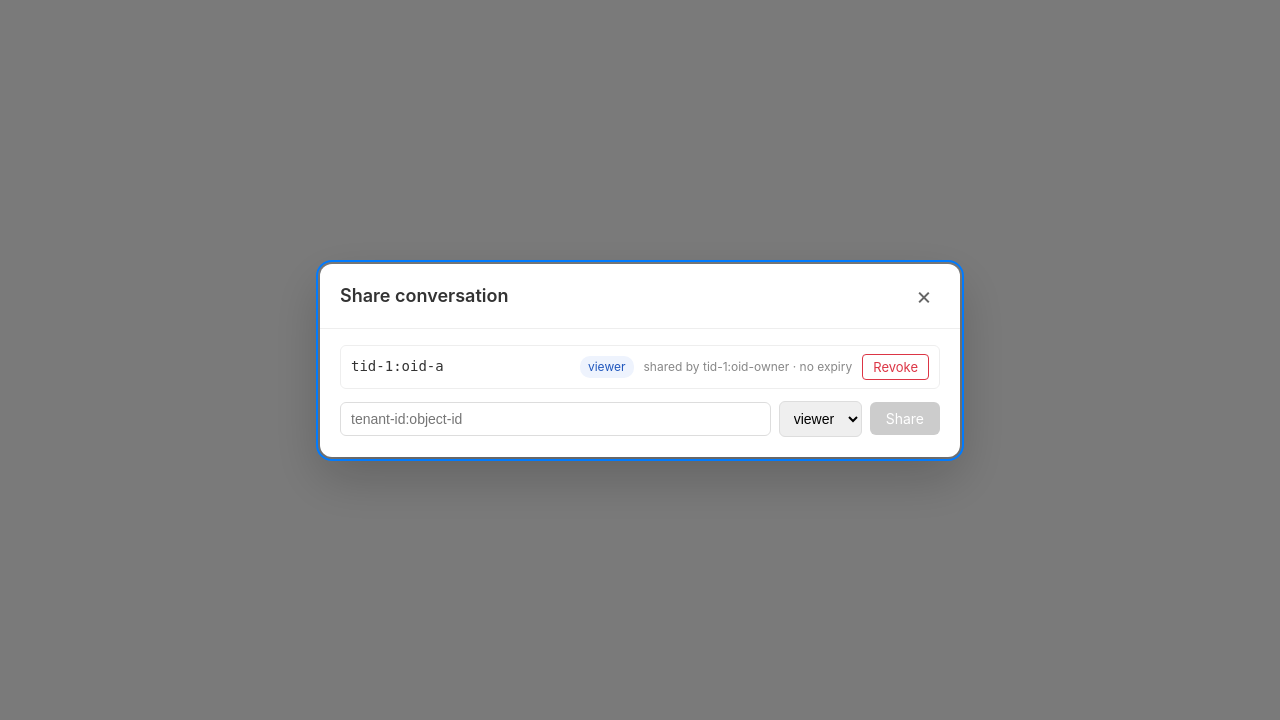
ShareConversationModal withdraws mutation for every refusal that will always fail › withdraws the controls after grantee_may_not_reshare
Check: the button with test id "share-add-button" is shown, box [870,402,940,435]
Step 1. Type "tid-1:oid-b" into the field with test id "share-subject-input" → x=555, y=418, box [340,402,771,436]
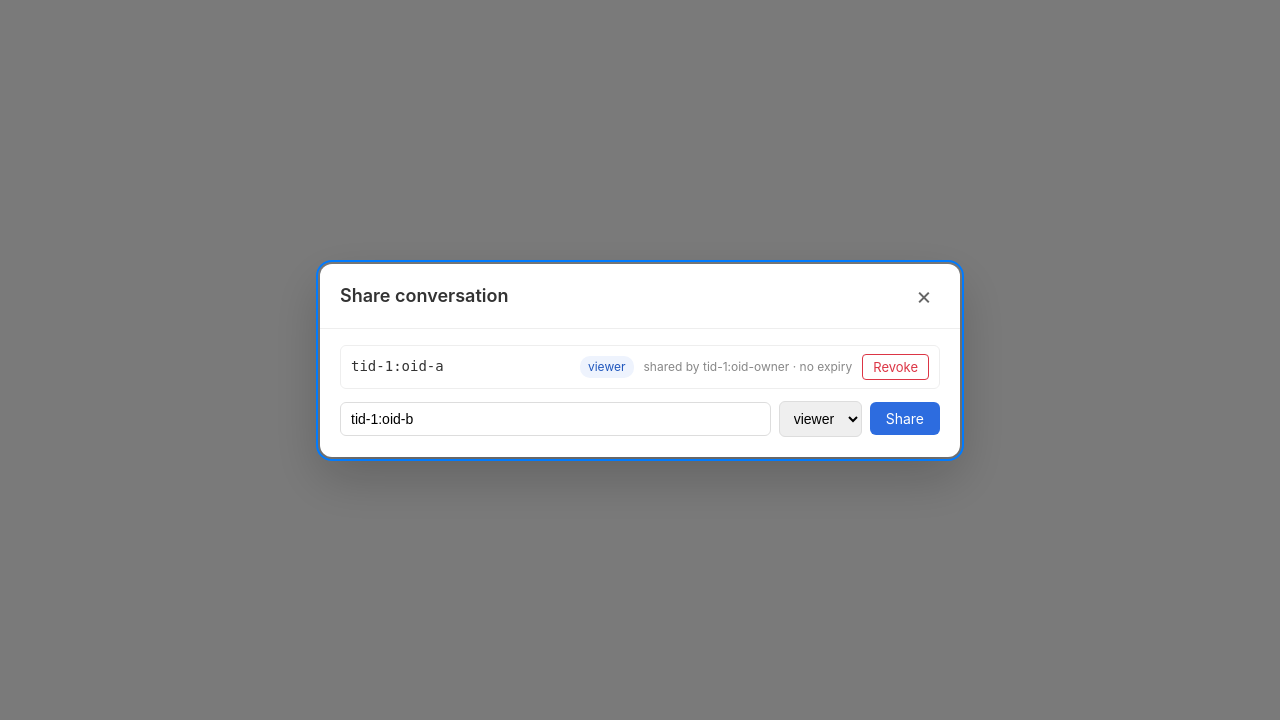
Step 2. Click the button with test id "share-add-button" → x=905, y=418, box [870,402,940,435]
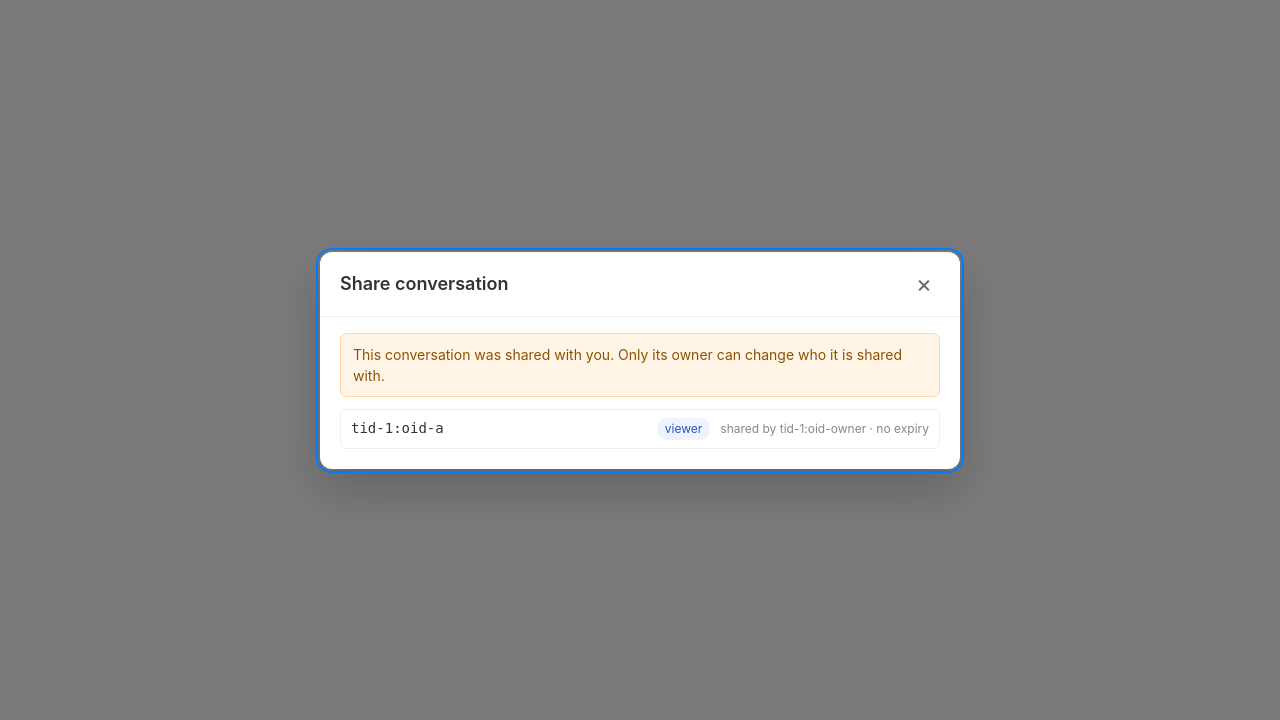
Check: the list item with test id "share-row-tid-1:oid-a" is shown, box [340,408,940,448]
Check: the text with test id "share-refusal" is shown, box [340,332,940,396]
Check: the text with test id "share-refusal" shows "shared with you", box [353,346,902,384]
